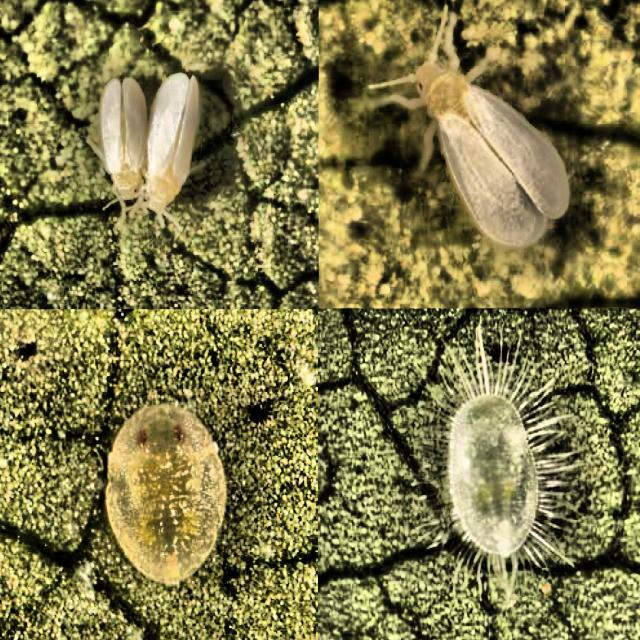egg: (448, 395, 538, 558)
nymph: (106, 405, 226, 584)
whitefly: (415, 53, 569, 248), (145, 73, 199, 212), (100, 80, 147, 198)
